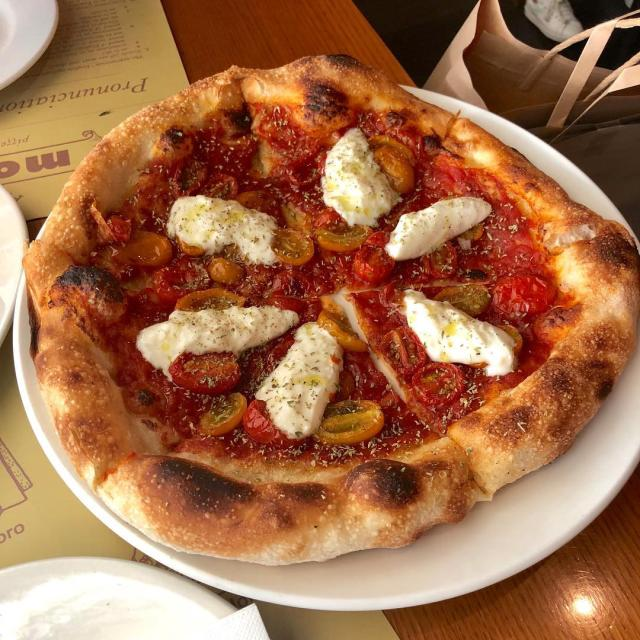pizza: (24, 55, 640, 565)
tomatoes: (159, 234, 247, 309), (96, 208, 172, 269), (276, 217, 368, 264), (249, 261, 335, 310), (165, 157, 246, 200), (310, 396, 385, 442), (364, 132, 418, 195), (487, 272, 561, 317), (164, 352, 243, 394), (240, 396, 290, 453), (410, 358, 464, 410), (188, 392, 246, 435), (355, 229, 396, 285), (316, 308, 368, 352), (378, 326, 426, 372), (433, 279, 489, 316), (235, 180, 278, 214), (424, 250, 462, 281), (494, 314, 524, 353), (462, 226, 484, 242)
